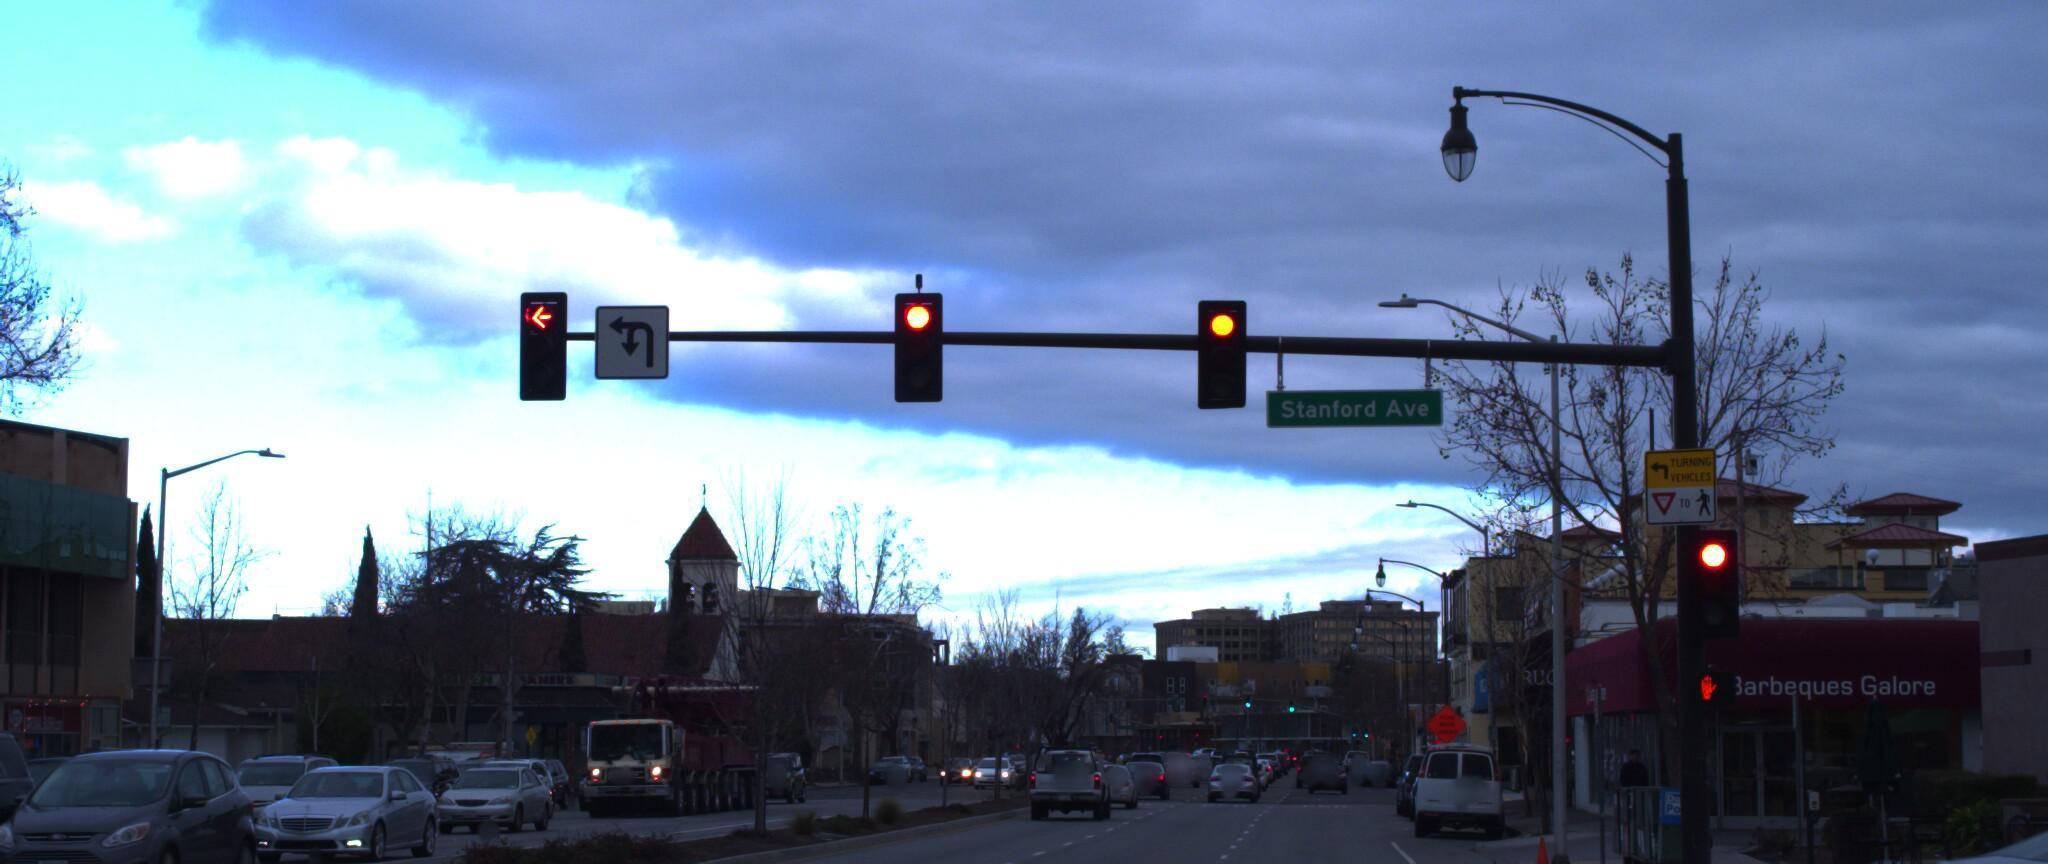car: (0, 737, 273, 864), (236, 760, 445, 859), (1872, 792, 2048, 864), (424, 764, 571, 833), (1401, 740, 1496, 843), (0, 710, 48, 864), (1027, 731, 1102, 799)
